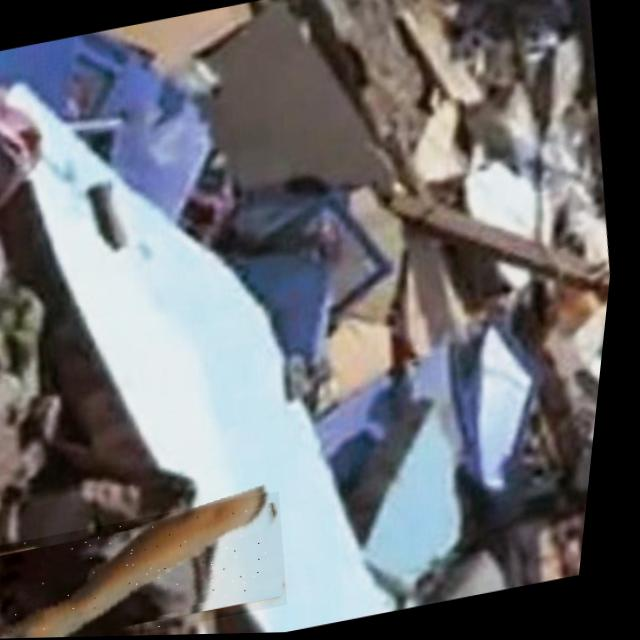Person in Rubble: (0, 492, 308, 639)
